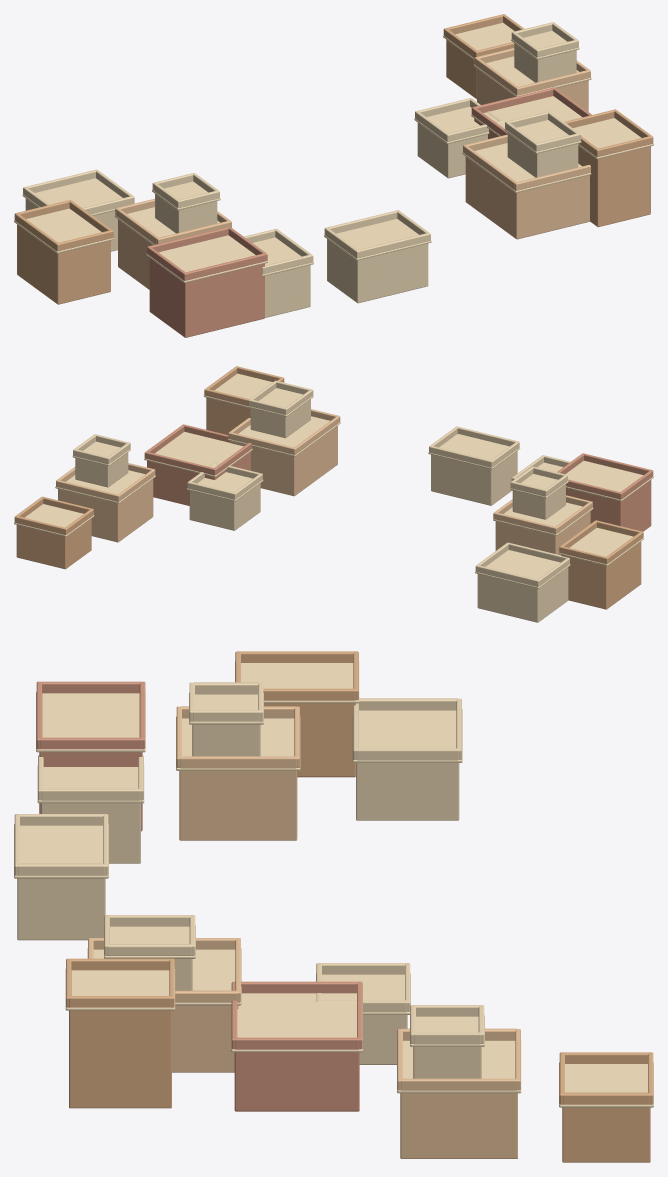
Rendered from SM_AdobeHomes.fbx.
The picture shows the model from 3 angles, top to bottom: view 1: azimuth 30°, elevation 25°; view 2: azimuth 150°, elevation 25°; view 3: azimuth 270°, elevation 25°; orthographic projection. The views are drawn at different scales.
Parts seen in each view (by area): view 1: SM_AdobeHomes_Export; view 2: SM_AdobeHomes_Export; view 3: SM_AdobeHomes_Export.
Boxes of the visible parts, box(x1,y1,x2,y2) form: SM_AdobeHomes_Export: box(14, 14, 653, 337); SM_AdobeHomes_Export: box(14, 366, 653, 622); SM_AdobeHomes_Export: box(14, 651, 653, 1162).
Size of the model in its own units: 6670 by 4345 by 1054.
